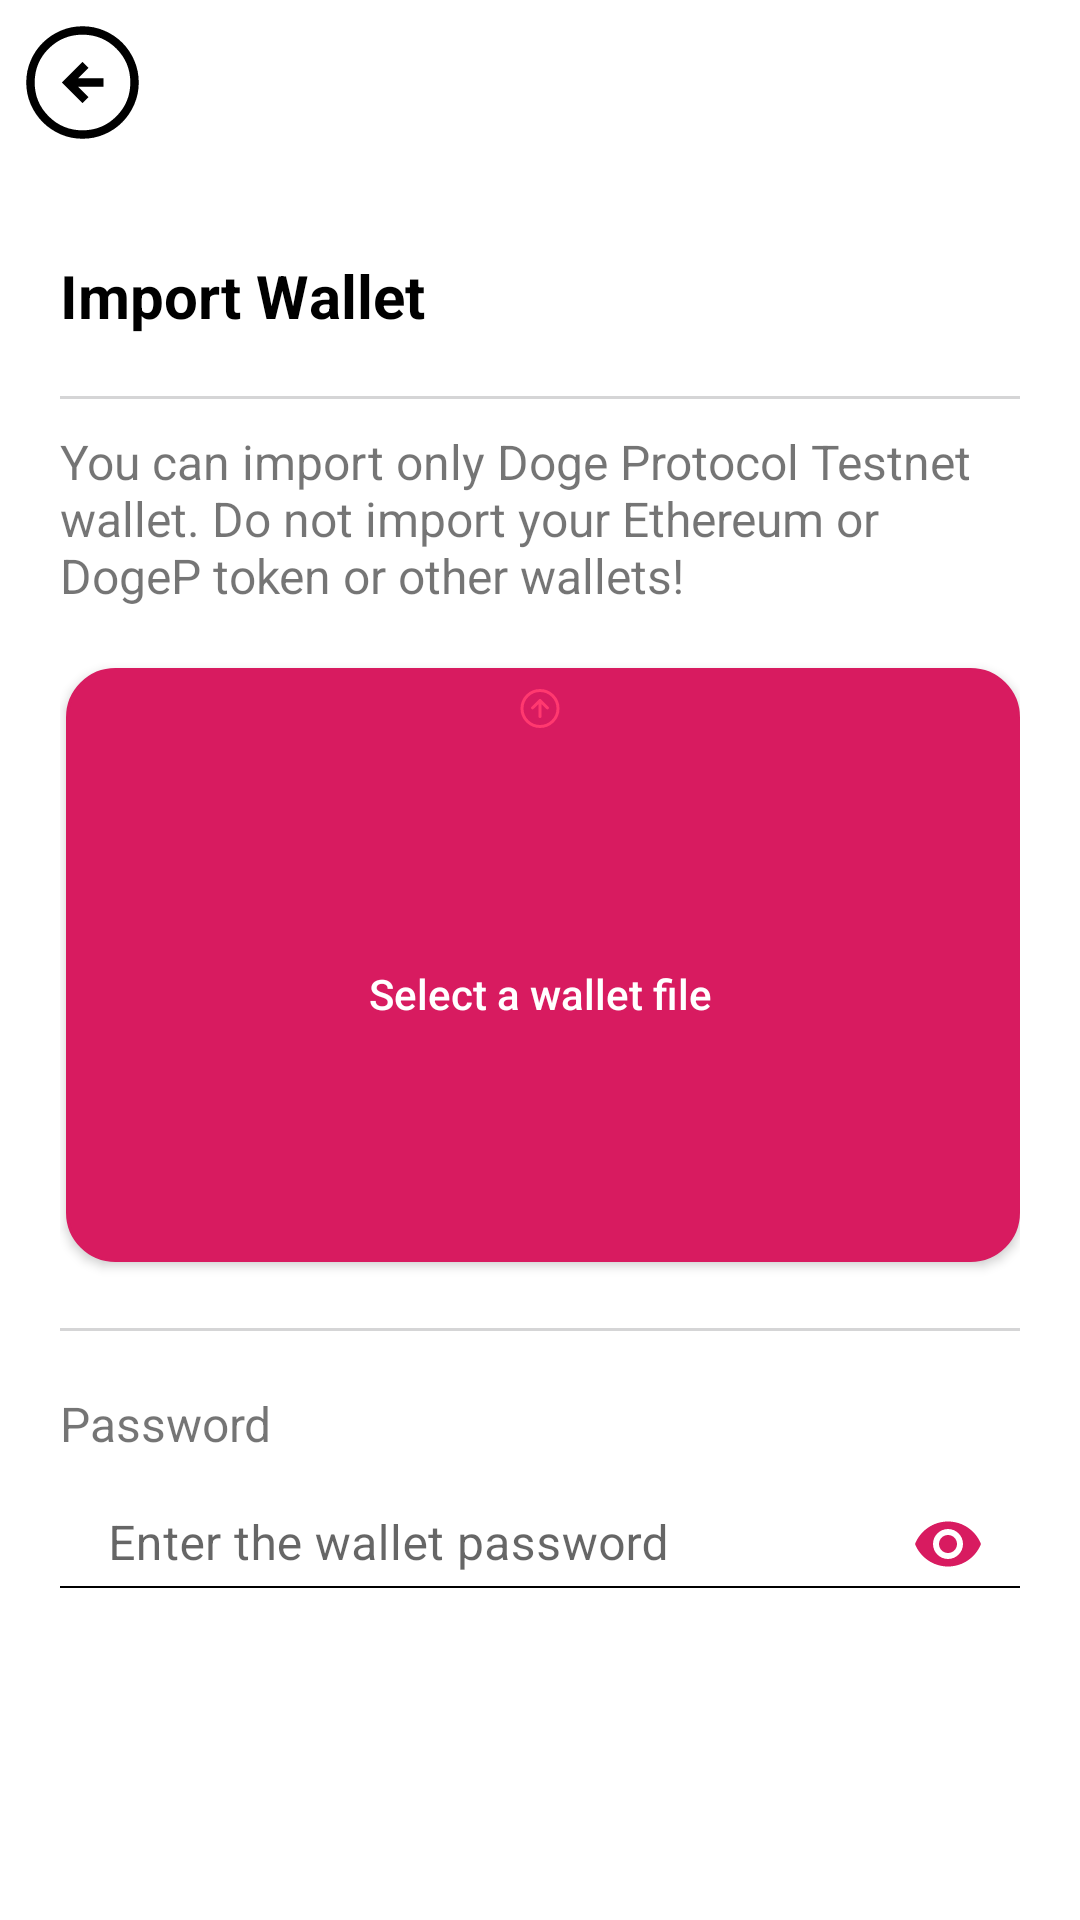

Where to tap for icons on this 1080px x 1920px app screen, as point (x, y):
arrow back circle: point (82, 82)
